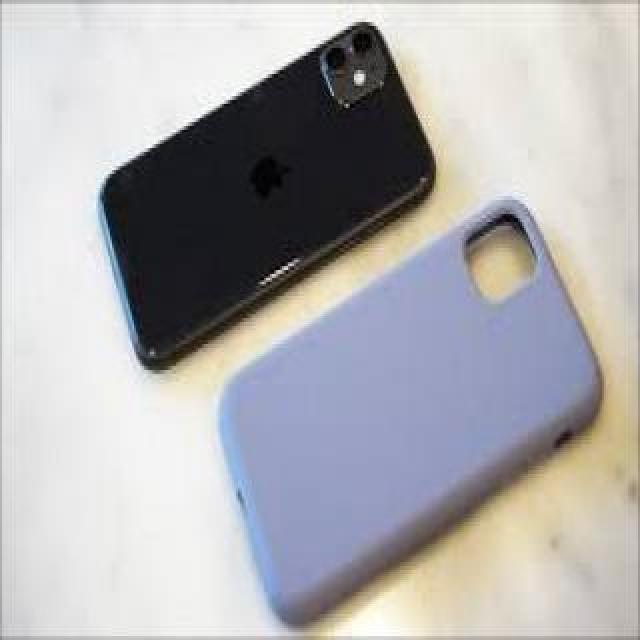smart phone: (180, 202, 620, 629), (88, 14, 480, 372)
